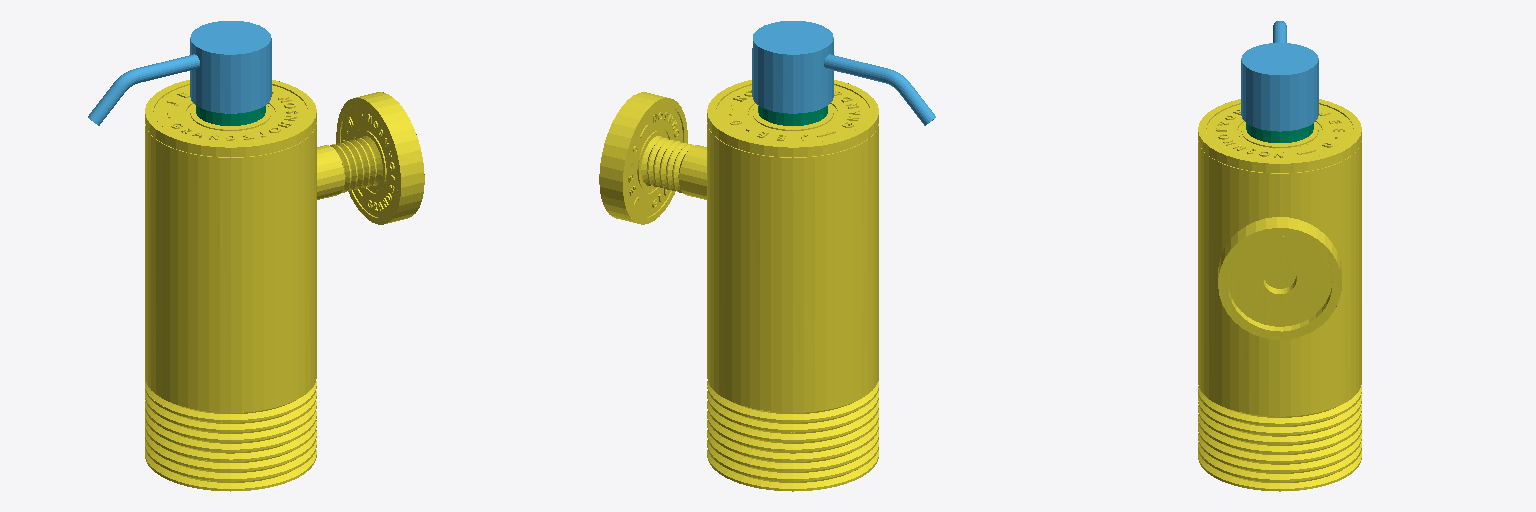
robot.urdf — partnet_dba97c73-17e9-4f08-a08b-4cfef08ba671:
<?xml version="1.0" ?>
<robot name="partnet_dba97c73-17e9-4f08-a08b-4cfef08ba671">
	<link name="base"/>
	<link name="link_0">
		<visual name="pressing_lid-1">
			<origin xyz="-0.011452500000000004 0 -0.062395010441331014"/>
			<geometry>
				<mesh filename="textured_objs/original_97.obj"/>
			</geometry>
		</visual>
		<visual name="pressing_lid-1">
			<origin xyz="-0.011452500000000004 0 -0.062395010441331014"/>
			<geometry>
				<mesh filename="textured_objs/original_94.obj"/>
			</geometry>
		</visual>
		<visual name="pressing_lid-1">
			<origin xyz="-0.011452500000000004 0 -0.062395010441331014"/>
			<geometry>
				<mesh filename="textured_objs/original_95.obj"/>
			</geometry>
		</visual>
		<collision>
			<origin xyz="-0.011452500000000004 0 -0.062395010441331014"/>
			<geometry>
				<mesh filename="textured_objs/original_97.obj"/>
			</geometry>
		</collision>
		<collision>
			<origin xyz="-0.011452500000000004 0 -0.062395010441331014"/>
			<geometry>
				<mesh filename="textured_objs/original_94.obj"/>
			</geometry>
		</collision>
		<collision>
			<origin xyz="-0.011452500000000004 0 -0.062395010441331014"/>
			<geometry>
				<mesh filename="textured_objs/original_95.obj"/>
			</geometry>
		</collision>
	</link>
	<joint name="joint_0" type="continuous">
		<origin xyz="0.0 0 0.0"/>
		<axis xyz="0 1 0"/>
		<child link="link_0"/>
		<parent link="link_0_helper"/>
	</joint>
	<link name="link_1">
		<visual name="head-3">
			<origin xyz="-0.011377103787358893 0 -0.06239510652739849"/>
			<geometry>
				<mesh filename="textured_objs/original_47.obj"/>
			</geometry>
		</visual>
		<collision>
			<origin xyz="-0.011377103787358893 0 -0.06239510652739849"/>
			<geometry>
				<mesh filename="textured_objs/original_47.obj"/>
			</geometry>
		</collision>
	</link>
	<joint name="joint_1" type="continuous">
		<origin xyz="0.0 0 0.0"/>
		<axis xyz="0 -1 0"/>
		<child link="link_1"/>
		<parent link="link_1_helper"/>
	</joint>
	<link name="link_2">
		<visual name="base_body-4">
			<origin xyz="0 0 0"/>
			<geometry>
				<mesh filename="textured_objs/original_29.obj"/>
			</geometry>
		</visual>
		<visual name="base_body-4">
			<origin xyz="0 0 0"/>
			<geometry>
				<mesh filename="textured_objs/original_100.obj"/>
			</geometry>
		</visual>
		<visual name="base_body-4">
			<origin xyz="0 0 0"/>
			<geometry>
				<mesh filename="textured_objs/original_21.obj"/>
			</geometry>
		</visual>
		<visual name="base_body-4">
			<origin xyz="0 0 0"/>
			<geometry>
				<mesh filename="textured_objs/original_30.obj"/>
			</geometry>
		</visual>
		<visual name="base_body-4">
			<origin xyz="0 0 0"/>
			<geometry>
				<mesh filename="textured_objs/original_36.obj"/>
			</geometry>
		</visual>
		<visual name="base_body-4">
			<origin xyz="0 0 0"/>
			<geometry>
				<mesh filename="textured_objs/original_41.obj"/>
			</geometry>
		</visual>
		<visual name="base_body-4">
			<origin xyz="0 0 0"/>
			<geometry>
				<mesh filename="textured_objs/original_28.obj"/>
			</geometry>
		</visual>
		<visual name="base_body-4">
			<origin xyz="0 0 0"/>
			<geometry>
				<mesh filename="textured_objs/original_96.obj"/>
			</geometry>
		</visual>
		<visual name="base_body-4">
			<origin xyz="0 0 0"/>
			<geometry>
				<mesh filename="textured_objs/original_64.obj"/>
			</geometry>
		</visual>
		<visual name="base_body-4">
			<origin xyz="0 0 0"/>
			<geometry>
				<mesh filename="textured_objs/original_43.obj"/>
			</geometry>
		</visual>
		<visual name="base_body-4">
			<origin xyz="0 0 0"/>
			<geometry>
				<mesh filename="textured_objs/original_71.obj"/>
			</geometry>
		</visual>
		<visual name="base_body-4">
			<origin xyz="0 0 0"/>
			<geometry>
				<mesh filename="textured_objs/original_52.obj"/>
			</geometry>
		</visual>
		<visual name="base_body-4">
			<origin xyz="0 0 0"/>
			<geometry>
				<mesh filename="textured_objs/original_26.obj"/>
			</geometry>
		</visual>
		<visual name="base_body-4">
			<origin xyz="0 0 0"/>
			<geometry>
				<mesh filename="textured_objs/original_4.obj"/>
			</geometry>
		</visual>
		<visual name="base_body-4">
			<origin xyz="0 0 0"/>
			<geometry>
				<mesh filename="textured_objs/original_44.obj"/>
			</geometry>
		</visual>
		<visual name="base_body-4">
			<origin xyz="0 0 0"/>
			<geometry>
				<mesh filename="textured_objs/original_16.obj"/>
			</geometry>
		</visual>
		<visual name="base_body-4">
			<origin xyz="0 0 0"/>
			<geometry>
				<mesh filename="textured_objs/original_86.obj"/>
			</geometry>
		</visual>
		<visual name="base_body-4">
			<origin xyz="0 0 0"/>
			<geometry>
				<mesh filename="textured_objs/original_8.obj"/>
			</geometry>
		</visual>
		<visual name="base_body-4">
			<origin xyz="0 0 0"/>
			<geometry>
				<mesh filename="textured_objs/original_13.obj"/>
			</geometry>
		</visual>
		<visual name="base_body-4">
			<origin xyz="0 0 0"/>
			<geometry>
				<mesh filename="textured_objs/original_9.obj"/>
			</geometry>
		</visual>
		<visual name="base_body-4">
			<origin xyz="0 0 0"/>
			<geometry>
				<mesh filename="textured_objs/original_45.obj"/>
			</geometry>
		</visual>
		<visual name="base_body-4">
			<origin xyz="0 0 0"/>
			<geometry>
				<mesh filename="textured_objs/original_35.obj"/>
			</geometry>
		</visual>
		<visual name="base_body-4">
			<origin xyz="0 0 0"/>
			<geometry>
				<mesh filename="textured_objs/original_39.obj"/>
			</geometry>
		</visual>
		<visual name="base_body-4">
			<origin xyz="0 0 0"/>
			<geometry>
				<mesh filename="textured_objs/original_59.obj"/>
			</geometry>
		</visual>
		<visual name="base_body-4">
			<origin xyz="0 0 0"/>
			<geometry>
				<mesh filename="textured_objs/original_5.obj"/>
			</geometry>
		</visual>
		<visual name="base_body-4">
			<origin xyz="0 0 0"/>
			<geometry>
				<mesh filename="textured_objs/original_77.obj"/>
			</geometry>
		</visual>
		<visual name="base_body-4">
			<origin xyz="0 0 0"/>
			<geometry>
				<mesh filename="textured_objs/original_54.obj"/>
			</geometry>
		</visual>
		<visual name="base_body-4">
			<origin xyz="0 0 0"/>
			<geometry>
				<mesh filename="textured_objs/original_63.obj"/>
			</geometry>
		</visual>
		<visual name="base_body-4">
			<origin xyz="0 0 0"/>
			<geometry>
				<mesh filename="textured_objs/original_87.obj"/>
			</geometry>
		</visual>
		<visual name="base_body-4">
			<origin xyz="0 0 0"/>
			<geometry>
				<mesh filename="textured_objs/original_51.obj"/>
			</geometry>
		</visual>
		<visual name="base_body-4">
			<origin xyz="0 0 0"/>
			<geometry>
				<mesh filename="textured_objs/original_55.obj"/>
			</geometry>
		</visual>
		<visual name="base_body-4">
			<origin xyz="0 0 0"/>
			<geometry>
				<mesh filename="textured_objs/original_50.obj"/>
			</geometry>
		</visual>
		<visual name="base_body-4">
			<origin xyz="0 0 0"/>
			<geometry>
				<mesh filename="textured_objs/original_6.obj"/>
			</geometry>
		</visual>
		<visual name="base_body-4">
			<origin xyz="0 0 0"/>
			<geometry>
				<mesh filename="textured_objs/original_31.obj"/>
			</geometry>
		</visual>
		<visual name="base_body-4">
			<origin xyz="0 0 0"/>
			<geometry>
				<mesh filename="textured_objs/original_85.obj"/>
			</geometry>
		</visual>
		<visual name="base_body-4">
			<origin xyz="0 0 0"/>
			<geometry>
				<mesh filename="textured_objs/original_76.obj"/>
			</geometry>
		</visual>
		<visual name="base_body-4">
			<origin xyz="0 0 0"/>
			<geometry>
				<mesh filename="textured_objs/original_72.obj"/>
			</geometry>
		</visual>
		<visual name="base_body-4">
			<origin xyz="0 0 0"/>
			<geometry>
				<mesh filename="textured_objs/original_99.obj"/>
			</geometry>
		</visual>
		<visual name="base_body-4">
			<origin xyz="0 0 0"/>
			<geometry>
				<mesh filename="textured_objs/original_62.obj"/>
			</geometry>
		</visual>
		<visual name="base_body-4">
			<origin xyz="0 0 0"/>
			<geometry>
				<mesh filename="textured_objs/original_75.obj"/>
			</geometry>
		</visual>
		<visual name="base_body-4">
			<origin xyz="0 0 0"/>
			<geometry>
				<mesh filename="textured_objs/original_23.obj"/>
			</geometry>
		</visual>
		<visual name="base_body-4">
			<origin xyz="0 0 0"/>
			<geometry>
				<mesh filename="textured_objs/original_66.obj"/>
			</geometry>
		</visual>
		<visual name="base_body-4">
			<origin xyz="0 0 0"/>
			<geometry>
				<mesh filename="textured_objs/original_67.obj"/>
			</geometry>
		</visual>
		<visual name="base_body-4">
			<origin xyz="0 0 0"/>
			<geometry>
				<mesh filename="textured_objs/original_69.obj"/>
			</geometry>
		</visual>
		<visual name="base_body-4">
			<origin xyz="0 0 0"/>
			<geometry>
				<mesh filename="textured_objs/original_11.obj"/>
			</geometry>
		</visual>
		<visual name="base_body-4">
			<origin xyz="0 0 0"/>
			<geometry>
				<mesh filename="textured_objs/original_38.obj"/>
			</geometry>
		</visual>
		<visual name="base_body-4">
			<origin xyz="0 0 0"/>
			<geometry>
				<mesh filename="textured_objs/original_80.obj"/>
			</geometry>
		</visual>
		<visual name="base_body-4">
			<origin xyz="0 0 0"/>
			<geometry>
				<mesh filename="textured_objs/original_34.obj"/>
			</geometry>
		</visual>
		<visual name="base_body-4">
			<origin xyz="0 0 0"/>
			<geometry>
				<mesh filename="textured_objs/original_18.obj"/>
			</geometry>
		</visual>
		<visual name="base_body-4">
			<origin xyz="0 0 0"/>
			<geometry>
				<mesh filename="textured_objs/original_70.obj"/>
			</geometry>
		</visual>
		<visual name="base_body-4">
			<origin xyz="0 0 0"/>
			<geometry>
				<mesh filename="textured_objs/original_74.obj"/>
			</geometry>
		</visual>
		<visual name="base_body-4">
			<origin xyz="0 0 0"/>
			<geometry>
				<mesh filename="textured_objs/original_91.obj"/>
			</geometry>
		</visual>
		<visual name="base_body-4">
			<origin xyz="0 0 0"/>
			<geometry>
				<mesh filename="textured_objs/original_25.obj"/>
			</geometry>
		</visual>
		<visual name="base_body-4">
			<origin xyz="0 0 0"/>
			<geometry>
				<mesh filename="textured_objs/original_17.obj"/>
			</geometry>
		</visual>
		<visual name="base_body-4">
			<origin xyz="0 0 0"/>
			<geometry>
				<mesh filename="textured_objs/original_92.obj"/>
			</geometry>
		</visual>
		<visual name="base_body-4">
			<origin xyz="0 0 0"/>
			<geometry>
				<mesh filename="textured_objs/original_24.obj"/>
			</geometry>
		</visual>
		<visual name="base_body-4">
			<origin xyz="0 0 0"/>
			<geometry>
				<mesh filename="textured_objs/original_20.obj"/>
			</geometry>
		</visual>
		<visual name="base_body-4">
			<origin xyz="0 0 0"/>
			<geometry>
				<mesh filename="textured_objs/original_32.obj"/>
			</geometry>
		</visual>
		<visual name="base_body-4">
			<origin xyz="0 0 0"/>
			<geometry>
				<mesh filename="textured_objs/original_53.obj"/>
			</geometry>
		</visual>
		<visual name="base_body-4">
			<origin xyz="0 0 0"/>
			<geometry>
				<mesh filename="textured_objs/original_7.obj"/>
			</geometry>
		</visual>
		<visual name="base_body-4">
			<origin xyz="0 0 0"/>
			<geometry>
				<mesh filename="textured_objs/original_101.obj"/>
			</geometry>
		</visual>
		<visual name="base_body-4">
			<origin xyz="0 0 0"/>
			<geometry>
				<mesh filename="textured_objs/original_1.obj"/>
			</geometry>
		</visual>
		<visual name="base_body-4">
			<origin xyz="0 0 0"/>
			<geometry>
				<mesh filename="textured_objs/original_81.obj"/>
			</geometry>
		</visual>
		<visual name="base_body-4">
			<origin xyz="0 0 0"/>
			<geometry>
				<mesh filename="textured_objs/original_84.obj"/>
			</geometry>
		</visual>
		<visual name="base_body-4">
			<origin xyz="0 0 0"/>
			<geometry>
				<mesh filename="textured_objs/original_78.obj"/>
			</geometry>
		</visual>
		<visual name="base_body-4">
			<origin xyz="0 0 0"/>
			<geometry>
				<mesh filename="textured_objs/original_89.obj"/>
			</geometry>
		</visual>
		<visual name="base_body-4">
			<origin xyz="0 0 0"/>
			<geometry>
				<mesh filename="textured_objs/original_14.obj"/>
			</geometry>
		</visual>
		<visual name="base_body-4">
			<origin xyz="0 0 0"/>
			<geometry>
				<mesh filename="textured_objs/original_82.obj"/>
			</geometry>
		</visual>
		<visual name="base_body-4">
			<origin xyz="0 0 0"/>
			<geometry>
				<mesh filename="textured_objs/original_60.obj"/>
			</geometry>
		</visual>
		<visual name="base_body-4">
			<origin xyz="0 0 0"/>
			<geometry>
				<mesh filename="textured_objs/original_90.obj"/>
			</geometry>
		</visual>
		<visual name="base_body-4">
			<origin xyz="0 0 0"/>
			<geometry>
				<mesh filename="textured_objs/original_40.obj"/>
			</geometry>
		</visual>
		<visual name="base_body-4">
			<origin xyz="0 0 0"/>
			<geometry>
				<mesh filename="textured_objs/original_46.obj"/>
			</geometry>
		</visual>
		<visual name="base_body-4">
			<origin xyz="0 0 0"/>
			<geometry>
				<mesh filename="textured_objs/original_57.obj"/>
			</geometry>
		</visual>
		<collision>
			<origin xyz="0 0 0"/>
			<geometry>
				<mesh filename="textured_objs/original_29.obj"/>
			</geometry>
		</collision>
		<collision>
			<origin xyz="0 0 0"/>
			<geometry>
				<mesh filename="textured_objs/original_100.obj"/>
			</geometry>
		</collision>
		<collision>
			<origin xyz="0 0 0"/>
			<geometry>
				<mesh filename="textured_objs/original_21.obj"/>
			</geometry>
		</collision>
		<collision>
			<origin xyz="0 0 0"/>
			<geometry>
				<mesh filename="textured_objs/original_30.obj"/>
			</geometry>
		</collision>
		<collision>
			<origin xyz="0 0 0"/>
			<geometry>
				<mesh filename="textured_objs/original_36.obj"/>
			</geometry>
		</collision>
		<collision>
			<origin xyz="0 0 0"/>
			<geometry>
				<mesh filename="textured_objs/original_41.obj"/>
			</geometry>
		</collision>
		<collision>
			<origin xyz="0 0 0"/>
			<geometry>
				<mesh filename="textured_objs/original_28.obj"/>
			</geometry>
		</collision>
		<collision>
			<origin xyz="0 0 0"/>
			<geometry>
				<mesh filename="textured_objs/original_96.obj"/>
			</geometry>
		</collision>
		<collision>
			<origin xyz="0 0 0"/>
			<geometry>
				<mesh filename="textured_objs/original_64.obj"/>
			</geometry>
		</collision>
		<collision>
			<origin xyz="0 0 0"/>
			<geometry>
				<mesh filename="textured_objs/original_43.obj"/>
			</geometry>
		</collision>
		<collision>
			<origin xyz="0 0 0"/>
			<geometry>
				<mesh filename="textured_objs/original_71.obj"/>
			</geometry>
		</collision>
		<collision>
			<origin xyz="0 0 0"/>
			<geometry>
				<mesh filename="textured_objs/original_52.obj"/>
			</geometry>
		</collision>
		<collision>
			<origin xyz="0 0 0"/>
			<geometry>
				<mesh filename="textured_objs/original_26.obj"/>
			</geometry>
		</collision>
		<collision>
			<origin xyz="0 0 0"/>
			<geometry>
				<mesh filename="textured_objs/original_4.obj"/>
			</geometry>
		</collision>
		<collision>
			<origin xyz="0 0 0"/>
			<geometry>
				<mesh filename="textured_objs/original_44.obj"/>
			</geometry>
		</collision>
		<collision>
			<origin xyz="0 0 0"/>
			<geometry>
				<mesh filename="textured_objs/original_16.obj"/>
			</geometry>
		</collision>
		<collision>
			<origin xyz="0 0 0"/>
			<geometry>
				<mesh filename="textured_objs/original_86.obj"/>
			</geometry>
		</collision>
		<collision>
			<origin xyz="0 0 0"/>
			<geometry>
				<mesh filename="textured_objs/original_8.obj"/>
			</geometry>
		</collision>
		<collision>
			<origin xyz="0 0 0"/>
			<geometry>
				<mesh filename="textured_objs/original_13.obj"/>
			</geometry>
		</collision>
		<collision>
			<origin xyz="0 0 0"/>
			<geometry>
				<mesh filename="textured_objs/original_9.obj"/>
			</geometry>
		</collision>
		<collision>
			<origin xyz="0 0 0"/>
			<geometry>
				<mesh filename="textured_objs/original_45.obj"/>
			</geometry>
		</collision>
		<collision>
			<origin xyz="0 0 0"/>
			<geometry>
				<mesh filename="textured_objs/original_35.obj"/>
			</geometry>
		</collision>
		<collision>
			<origin xyz="0 0 0"/>
			<geometry>
				<mesh filename="textured_objs/original_39.obj"/>
			</geometry>
		</collision>
		<collision>
			<origin xyz="0 0 0"/>
			<geometry>
				<mesh filename="textured_objs/original_59.obj"/>
			</geometry>
		</collision>
		<collision>
			<origin xyz="0 0 0"/>
			<geometry>
				<mesh filename="textured_objs/original_5.obj"/>
			</geometry>
		</collision>
		<collision>
			<origin xyz="0 0 0"/>
			<geometry>
				<mesh filename="textured_objs/original_77.obj"/>
			</geometry>
		</collision>
		<collision>
			<origin xyz="0 0 0"/>
			<geometry>
				<mesh filename="textured_objs/original_54.obj"/>
			</geometry>
		</collision>
		<collision>
			<origin xyz="0 0 0"/>
			<geometry>
				<mesh filename="textured_objs/original_63.obj"/>
			</geometry>
		</collision>
		<collision>
			<origin xyz="0 0 0"/>
			<geometry>
				<mesh filename="textured_objs/original_87.obj"/>
			</geometry>
		</collision>
		<collision>
			<origin xyz="0 0 0"/>
			<geometry>
				<mesh filename="textured_objs/original_51.obj"/>
			</geometry>
		</collision>
		<collision>
			<origin xyz="0 0 0"/>
			<geometry>
				<mesh filename="textured_objs/original_55.obj"/>
			</geometry>
		</collision>
		<collision>
			<origin xyz="0 0 0"/>
			<geometry>
				<mesh filename="textured_objs/original_50.obj"/>
			</geometry>
		</collision>
		<collision>
			<origin xyz="0 0 0"/>
			<geometry>
				<mesh filename="textured_objs/original_6.obj"/>
			</geometry>
		</collision>
		<collision>
			<origin xyz="0 0 0"/>
			<geometry>
				<mesh filename="textured_objs/original_31.obj"/>
			</geometry>
		</collision>
		<collision>
			<origin xyz="0 0 0"/>
			<geometry>
				<mesh filename="textured_objs/original_85.obj"/>
			</geometry>
		</collision>
		<collision>
			<origin xyz="0 0 0"/>
			<geometry>
				<mesh filename="textured_objs/original_76.obj"/>
			</geometry>
		</collision>
		<collision>
			<origin xyz="0 0 0"/>
			<geometry>
				<mesh filename="textured_objs/original_72.obj"/>
			</geometry>
		</collision>
		<collision>
			<origin xyz="0 0 0"/>
			<geometry>
				<mesh filename="textured_objs/original_99.obj"/>
			</geometry>
		</collision>
		<collision>
			<origin xyz="0 0 0"/>
			<geometry>
				<mesh filename="textured_objs/original_62.obj"/>
			</geometry>
		</collision>
		<collision>
			<origin xyz="0 0 0"/>
			<geometry>
				<mesh filename="textured_objs/original_75.obj"/>
			</geometry>
		</collision>
		<collision>
			<origin xyz="0 0 0"/>
			<geometry>
				<mesh filename="textured_objs/original_23.obj"/>
			</geometry>
		</collision>
		<collision>
			<origin xyz="0 0 0"/>
			<geometry>
				<mesh filename="textured_objs/original_66.obj"/>
			</geometry>
		</collision>
		<collision>
			<origin xyz="0 0 0"/>
			<geometry>
				<mesh filename="textured_objs/original_67.obj"/>
			</geometry>
		</collision>
		<collision>
			<origin xyz="0 0 0"/>
			<geometry>
				<mesh filename="textured_objs/original_69.obj"/>
			</geometry>
		</collision>
		<collision>
			<origin xyz="0 0 0"/>
			<geometry>
				<mesh filename="textured_objs/original_11.obj"/>
			</geometry>
		</collision>
		<collision>
			<origin xyz="0 0 0"/>
			<geometry>
				<mesh filename="textured_objs/original_38.obj"/>
			</geometry>
		</collision>
		<collision>
			<origin xyz="0 0 0"/>
			<geometry>
				<mesh filename="textured_objs/original_80.obj"/>
			</geometry>
		</collision>
		<collision>
			<origin xyz="0 0 0"/>
			<geometry>
				<mesh filename="textured_objs/original_34.obj"/>
			</geometry>
		</collision>
		<collision>
			<origin xyz="0 0 0"/>
			<geometry>
				<mesh filename="textured_objs/original_18.obj"/>
			</geometry>
		</collision>
		<collision>
			<origin xyz="0 0 0"/>
			<geometry>
				<mesh filename="textured_objs/original_70.obj"/>
			</geometry>
		</collision>
		<collision>
			<origin xyz="0 0 0"/>
			<geometry>
				<mesh filename="textured_objs/original_74.obj"/>
			</geometry>
		</collision>
		<collision>
			<origin xyz="0 0 0"/>
			<geometry>
				<mesh filename="textured_objs/original_91.obj"/>
			</geometry>
		</collision>
		<collision>
			<origin xyz="0 0 0"/>
			<geometry>
				<mesh filename="textured_objs/original_25.obj"/>
			</geometry>
		</collision>
		<collision>
			<origin xyz="0 0 0"/>
			<geometry>
				<mesh filename="textured_objs/original_17.obj"/>
			</geometry>
		</collision>
		<collision>
			<origin xyz="0 0 0"/>
			<geometry>
				<mesh filename="textured_objs/original_92.obj"/>
			</geometry>
		</collision>
		<collision>
			<origin xyz="0 0 0"/>
			<geometry>
				<mesh filename="textured_objs/original_24.obj"/>
			</geometry>
		</collision>
		<collision>
			<origin xyz="0 0 0"/>
			<geometry>
				<mesh filename="textured_objs/original_20.obj"/>
			</geometry>
		</collision>
		<collision>
			<origin xyz="0 0 0"/>
			<geometry>
				<mesh filename="textured_objs/original_32.obj"/>
			</geometry>
		</collision>
		<collision>
			<origin xyz="0 0 0"/>
			<geometry>
				<mesh filename="textured_objs/original_53.obj"/>
			</geometry>
		</collision>
		<collision>
			<origin xyz="0 0 0"/>
			<geometry>
				<mesh filename="textured_objs/original_7.obj"/>
			</geometry>
		</collision>
		<collision>
			<origin xyz="0 0 0"/>
			<geometry>
				<mesh filename="textured_objs/original_101.obj"/>
			</geometry>
		</collision>
		<collision>
			<origin xyz="0 0 0"/>
			<geometry>
				<mesh filename="textured_objs/original_1.obj"/>
			</geometry>
		</collision>
		<collision>
			<origin xyz="0 0 0"/>
			<geometry>
				<mesh filename="textured_objs/original_81.obj"/>
			</geometry>
		</collision>
		<collision>
			<origin xyz="0 0 0"/>
			<geometry>
				<mesh filename="textured_objs/original_84.obj"/>
			</geometry>
		</collision>
		<collision>
			<origin xyz="0 0 0"/>
			<geometry>
				<mesh filename="textured_objs/original_78.obj"/>
			</geometry>
		</collision>
		<collision>
			<origin xyz="0 0 0"/>
			<geometry>
				<mesh filename="textured_objs/original_89.obj"/>
			</geometry>
		</collision>
		<collision>
			<origin xyz="0 0 0"/>
			<geometry>
				<mesh filename="textured_objs/original_14.obj"/>
			</geometry>
		</collision>
		<collision>
			<origin xyz="0 0 0"/>
			<geometry>
				<mesh filename="textured_objs/original_82.obj"/>
			</geometry>
		</collision>
		<collision>
			<origin xyz="0 0 0"/>
			<geometry>
				<mesh filename="textured_objs/original_60.obj"/>
			</geometry>
		</collision>
		<collision>
			<origin xyz="0 0 0"/>
			<geometry>
				<mesh filename="textured_objs/original_90.obj"/>
			</geometry>
		</collision>
		<collision>
			<origin xyz="0 0 0"/>
			<geometry>
				<mesh filename="textured_objs/original_40.obj"/>
			</geometry>
		</collision>
		<collision>
			<origin xyz="0 0 0"/>
			<geometry>
				<mesh filename="textured_objs/original_46.obj"/>
			</geometry>
		</collision>
		<collision>
			<origin xyz="0 0 0"/>
			<geometry>
				<mesh filename="textured_objs/original_57.obj"/>
			</geometry>
		</collision>
	</link>
	<joint name="joint_2" type="fixed">
		<origin rpy="1.570796326794897 0 -1.570796326794897" xyz="0 0 0"/>
		<child link="link_2"/>
		<parent link="base"/>
	</joint>
	<link name="link_0_helper">
		<inertial>
			<origin xyz="0 0 0"/>
			<mass value="1e-6"/>
			<inertia ixx="1e-10" ixy="0" ixz="0" iyy="1e-10" iyz="0" izz="1e-10"/>
		</inertial>
	</link>
	<joint name="joint_3" type="prismatic">
		<origin xyz="7.539621264111146e-05 0 -9.608606747757431e-08"/>
		<axis xyz="0 -1 0"/>
		<child link="link_0_helper"/>
		<parent link="link_1"/>
		<limit lower="0" upper="0.04"/>
	</joint>
	<link name="link_1_helper">
		<inertial>
			<origin xyz="0 0 0"/>
			<mass value="1e-6"/>
			<inertia ixx="1e-10" ixy="0" ixz="0" iyy="1e-10" iyz="0" izz="1e-10"/>
		</inertial>
	</link>
	<joint name="joint_4" type="prismatic">
		<origin xyz="0.011377103787358893 0 0.06239510652739849"/>
		<axis xyz="0 1 0"/>
		<child link="link_1_helper"/>
		<parent link="link_2"/>
		<limit lower="0" upper="0.020000000000000018"/>
	</joint>
</robot>

--- What the picture shows (computed from the rendered views, not written in the file) ---
The picture shows the robot from 3 angles, left to right: view 1: azimuth 30°, elevation 25°; view 2: azimuth 150°, elevation 25°; view 3: azimuth 270°, elevation 25°; orthographic projection.
Model partnet_dba97c73-17e9-4f08-a08b-4cfef08ba671 with 6 links and 5 joints (2 continuous, 2 prismatic, 1 fixed), rooted at base, posed every joint at zero.
Links seen in each view (by area): view 1: link_2, link_0, link_1; view 2: link_2, link_0, link_1; view 3: link_2, link_0, link_1.
Boxes of the visible links, <box> form: link_2: <box>145,80,424,491</box>; link_0: <box>88,21,271,125</box>; link_1: <box>196,106,265,125</box>; link_2: <box>599,80,878,491</box>; link_0: <box>752,21,935,125</box>; link_1: <box>758,106,827,125</box>; link_2: <box>1198,99,1361,491</box>; link_0: <box>1241,21,1318,131</box>; link_1: <box>1246,123,1313,142</box>.
Size in the robot's own frame: 1.35 by 0.6627 by 1.77 metres.
77 mesh visuals loaded from 77 distinct referenced files (77 OBJ).
